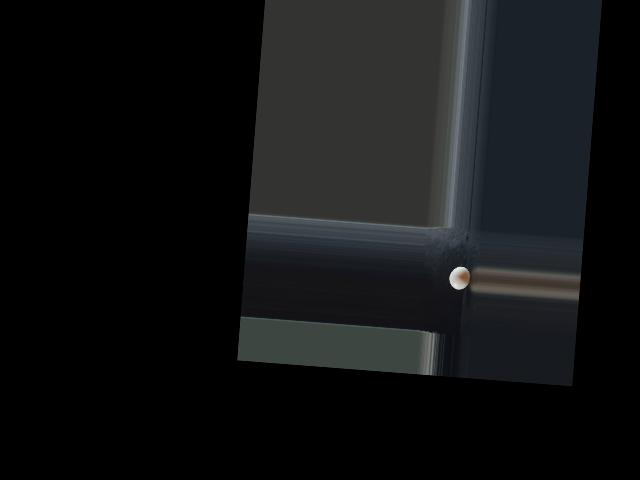egg: (448, 265, 471, 289)
